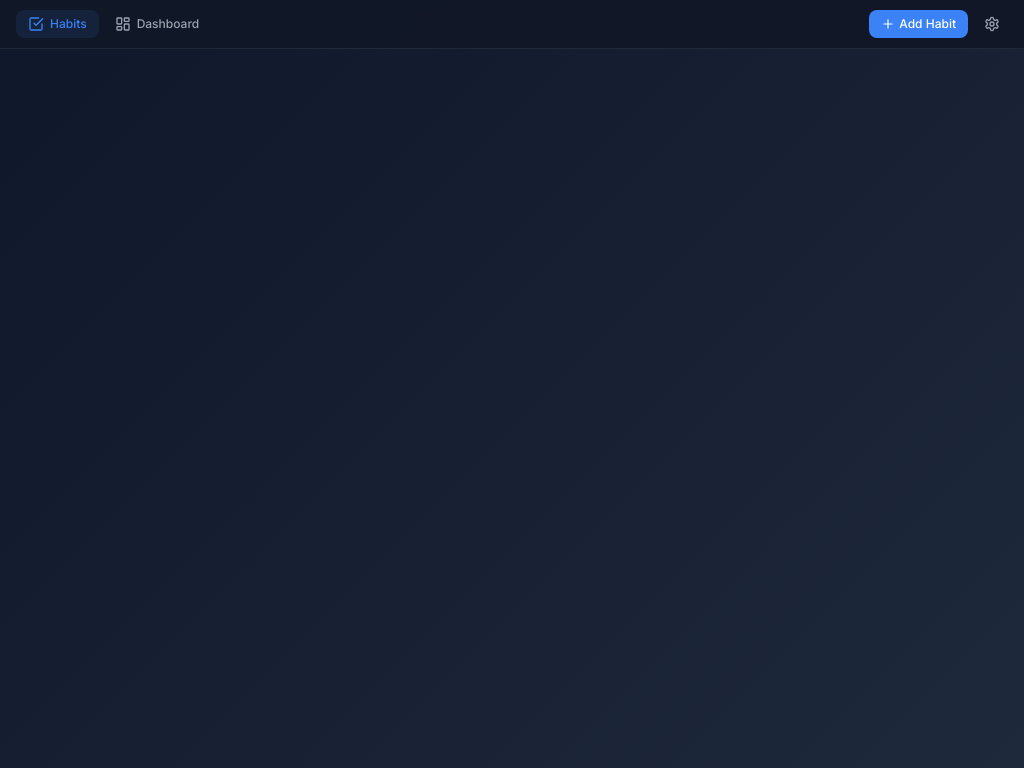
Scenario: Navigation › shows current goal in settings when weeklyGoal is set
The width and height of the screenshot is (1024, 768).
Click the button named "Open settings" at [992, 24], box [976,8,1008,40]
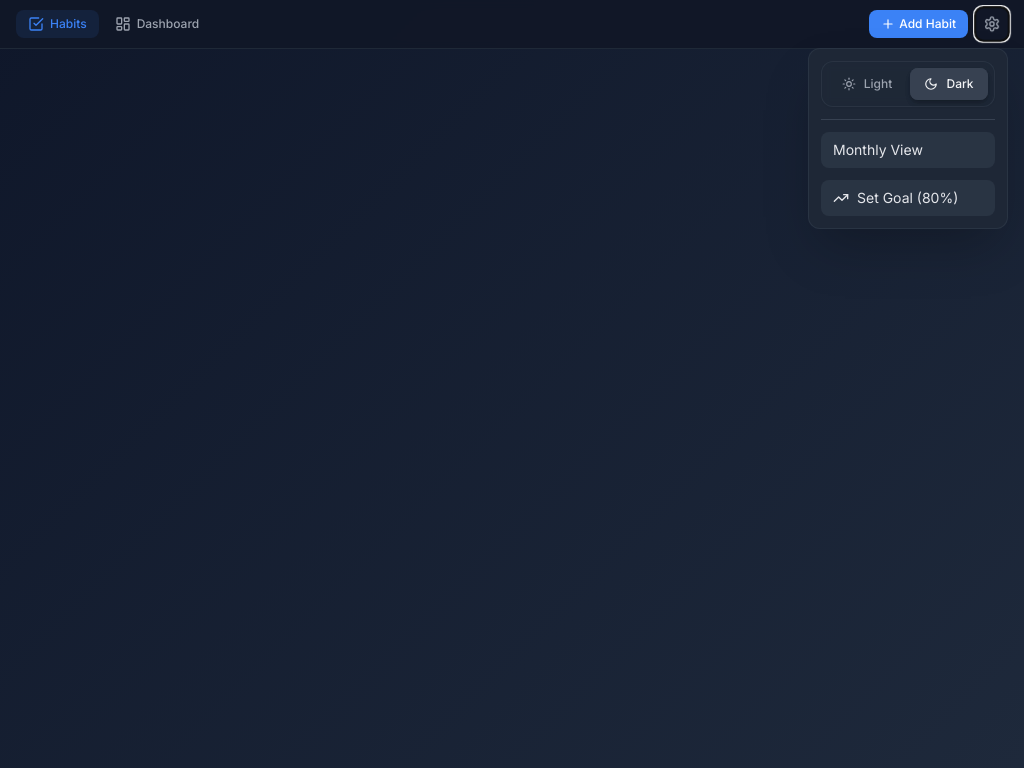
Check: the button "Set Goal (80%)" is shown, box [821,180,995,216]
